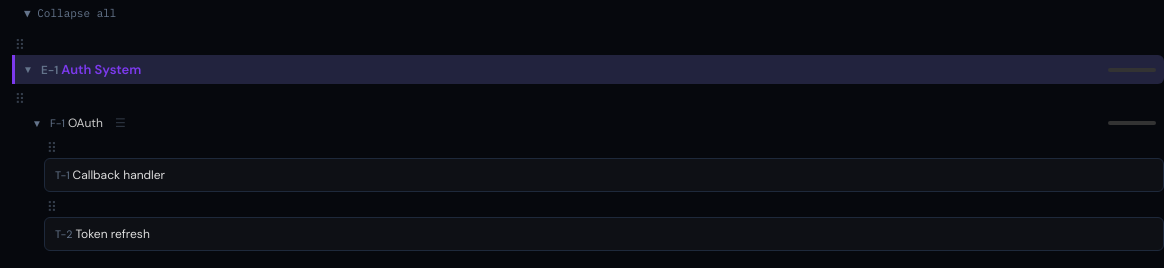
Test: BacklogTree › shows expand all when some items are manually collapsed
Collapse the epic manually via the toggle
Click the text "▼" next to "E-1".
click(28, 70)  # box [23, 63, 33, 76]
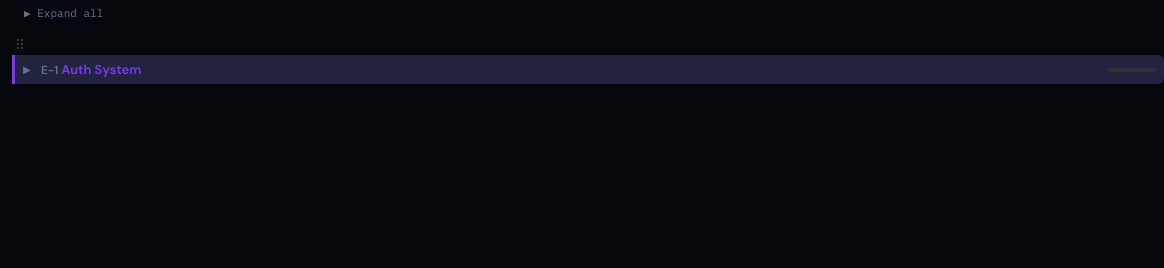
Expected: the button "▶ Expand all" is shown, [20, 4, 107, 22]
